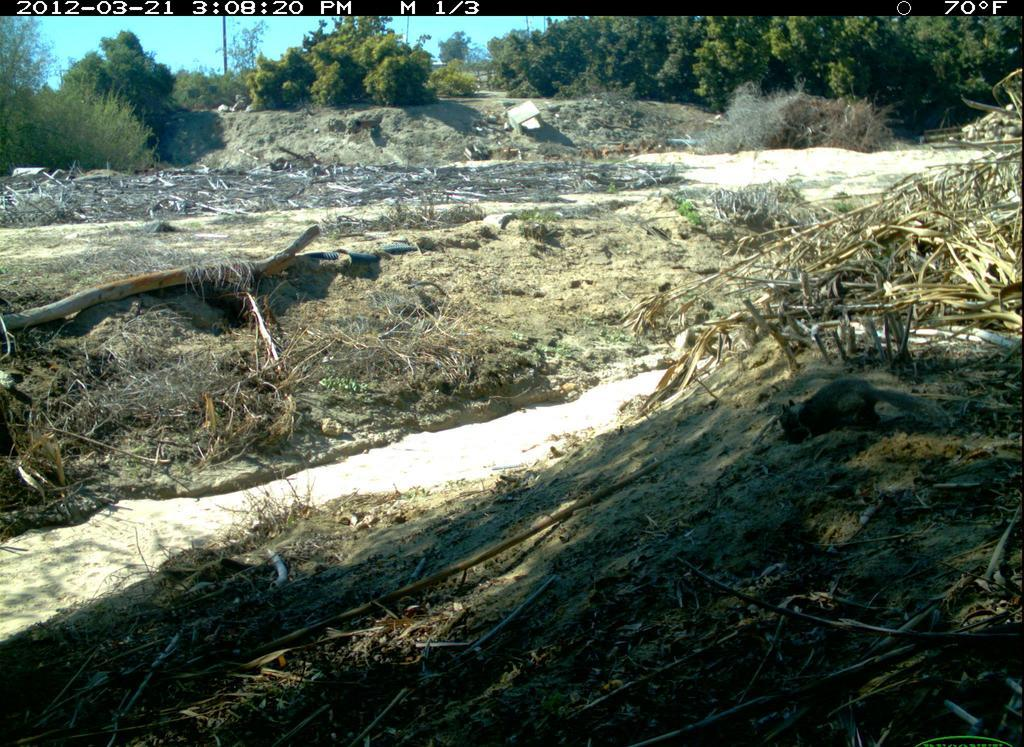squirrel: (770, 365, 959, 460)
